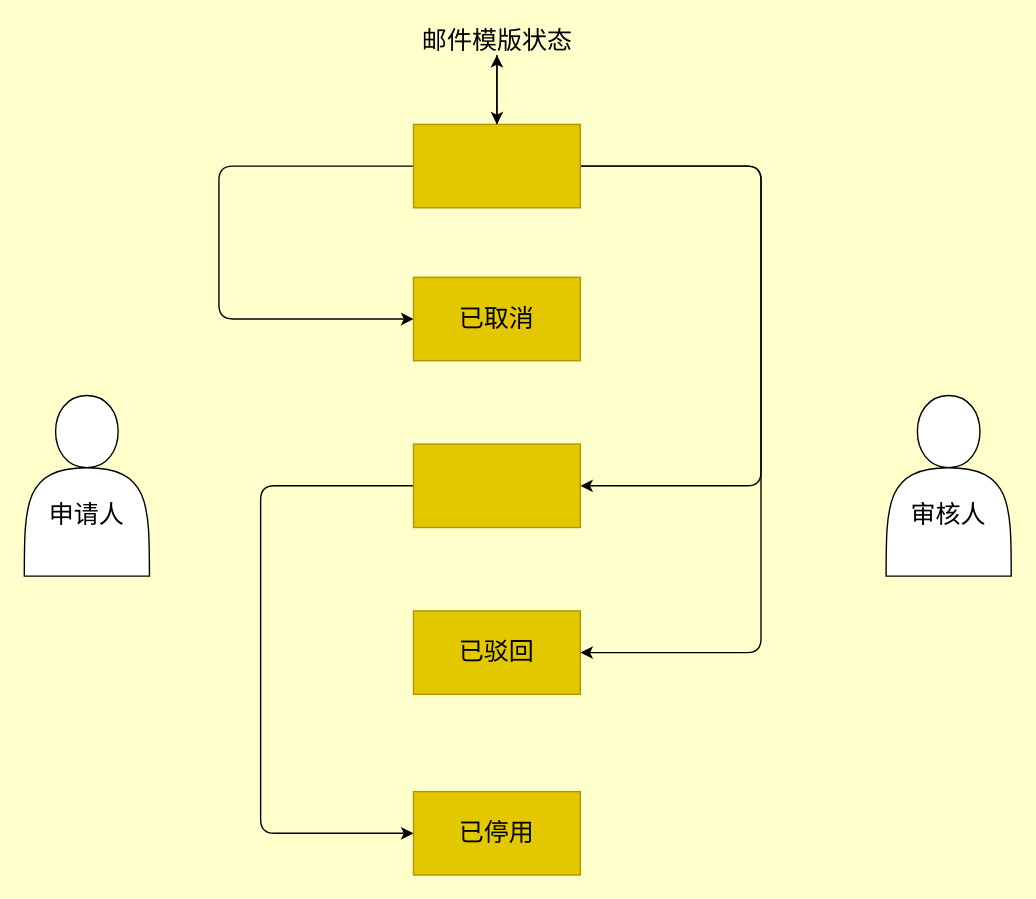
This 1036x899 diagram has some shape labels left out. The box of each missing label's shape, as (x1, y1, x2, y2) in pixels:
已通过: (412, 443, 580, 528)
待审核: (412, 123, 580, 208)
